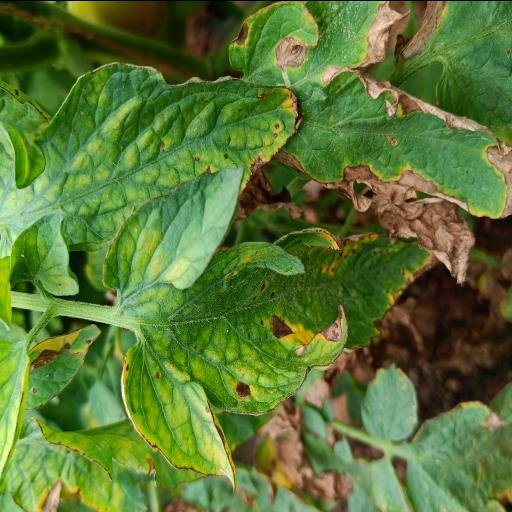Early Blight: (100, 156, 438, 492), (228, 0, 511, 227)
